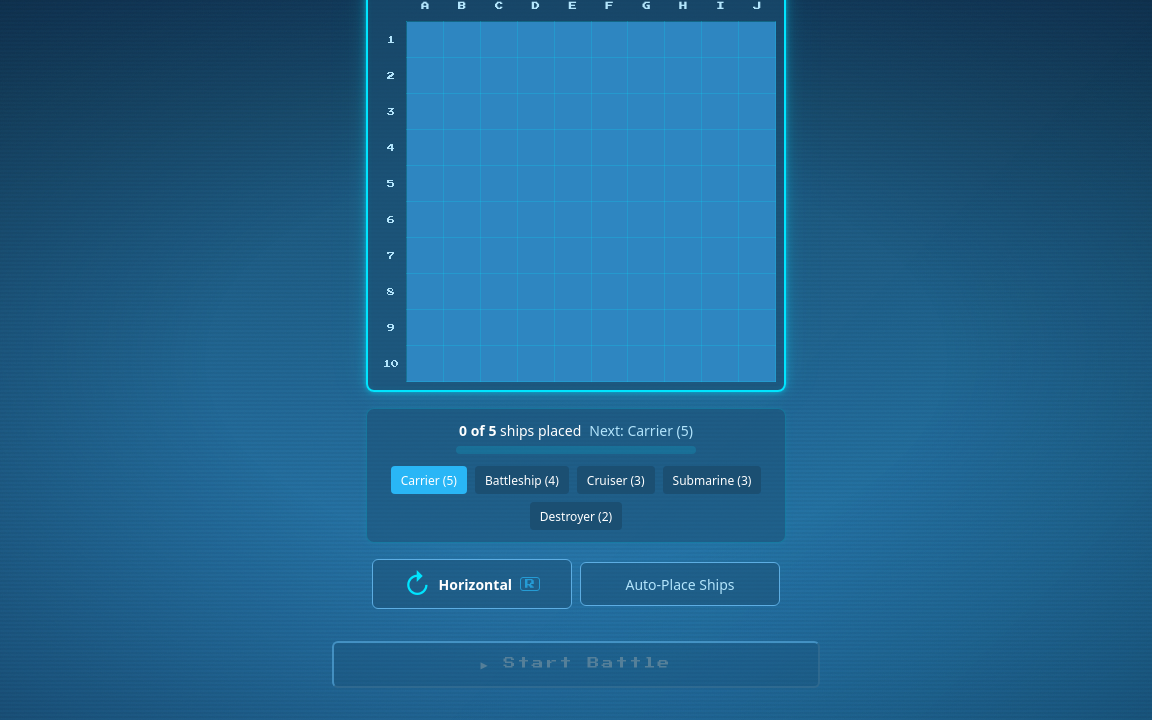
it: §5.3 Behavior-preservation tests › START BATTLE button becomes enabled after all ships placed
The image size is (1152, 720).
(page scrolled)
Step 1. Click the button "Auto-Place Ships" → coordinates (680, 584), box 580,562 -> 780,606
(page scrolled)
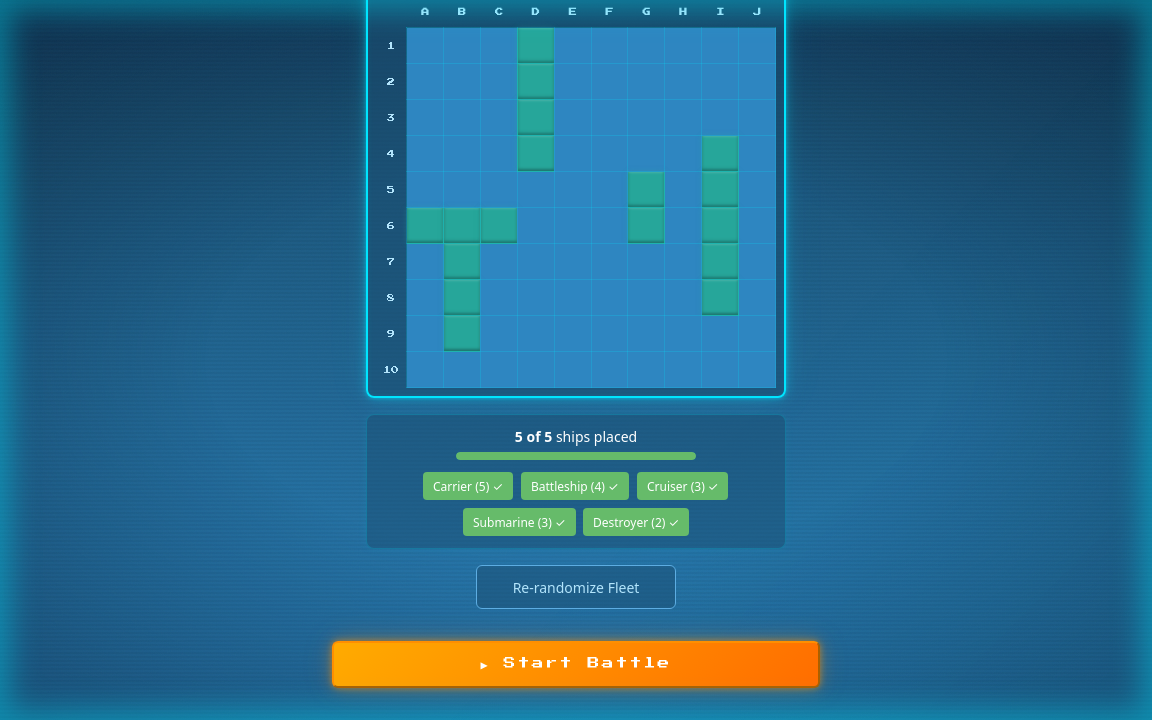
Expected: the button "Start Battle" is enabled, 332,641 -> 820,688
